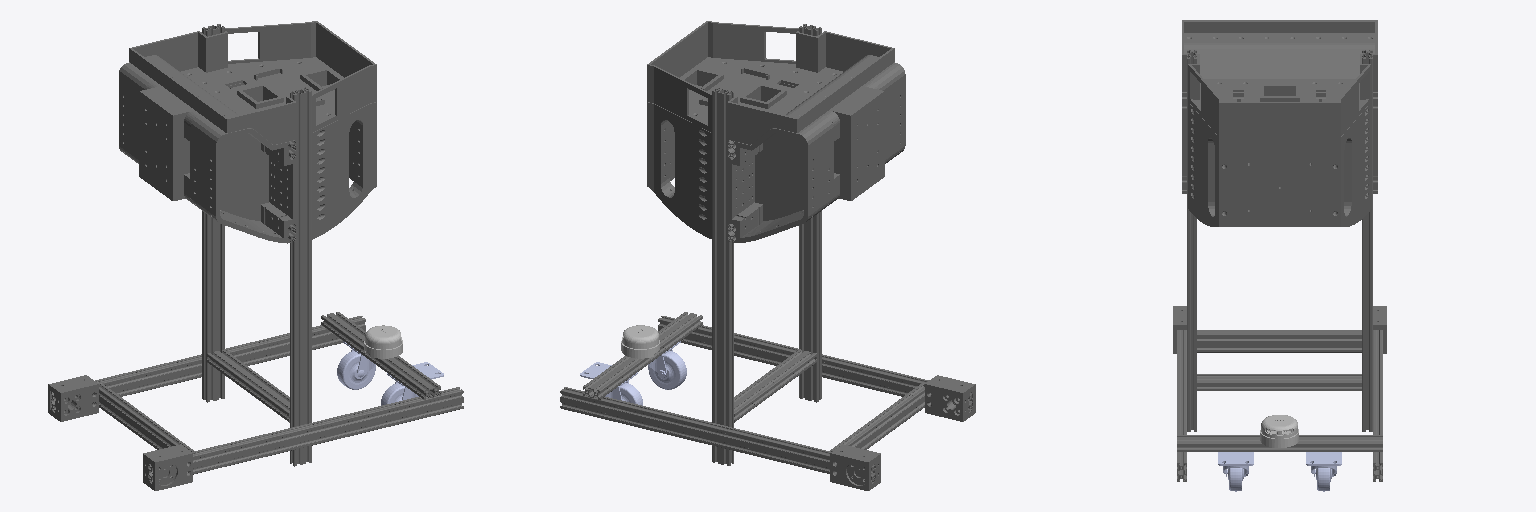
URDF robot description (view_robot_pkg):
<?xml version="1.0"?>
<robot name="view_robot_pkg">

  <link name="base_footprint"/>

  <joint name="base_footprint_joint" type="fixed">
    <origin xyz="0 0 0.56206" rpy="0 0 0"/>
    <parent link="base_footprint"/>
    <child link="base_link"/>
  </joint>

  <link name="base_link">
    <inertial>
      <origin xyz="-0.0246664991701579 5.70622526084585E-06 -0.065175547408044" rpy="0 0 0"/>
      <mass value="11.8117325473893"/>
      <inertia
        ixx="0.130576626113656"
        ixy="1.47971062390579E-07"
        ixz="0.00285071032522239"
        iyy="0.168919301848653"
        iyz="1.07757011014447E-08"
        izz="0.0962622389900477"/>
    </inertial>
    <visual>
      <origin xyz="0 0 0" rpy="0 0 0"/>
      <geometry>
        <mesh filename="package://view_robot_pkg/meshes/base_link.STL"/>
      </geometry>
      <material name="">
        <color rgba="0.498039215686275 0.498039215686275 0.498039215686275 1"/>
      </material>
    </visual>
    <collision>
      <origin xyz="0 0 0" rpy="0 0 0"/>
      <geometry>
        <mesh filename="package://view_robot_pkg/meshes/base_link.STL"/>
      </geometry>
    </collision>
  </link>

  <link name="wheel_right_link">
    <inertial>
      <origin xyz="-2.43019668694222E-06 1.85668461649691E-06 -0.0204728433099643" rpy="0 0 0"/>
      <mass value="0.516905713246417"/>
      <inertia
        ixx="0.00125613924285597"
        ixy="2.11747326433519E-09"
        ixz="2.64299917067243E-08"
        iyy="0.00125611448213454"
        iyz="-1.32101831494911E-08"
        izz="0.00238429646215864"/>
    </inertial>
    <visual>
      <origin xyz="0 0 0" rpy="0 0 0"/>
      <geometry>
        <mesh filename="package://view_robot_pkg/meshes/wheel_right_link.STL"/>
      </geometry>
      <material name="">
        <color rgba="0.792156862745098 0.819607843137255 0.933333333333333 1"/>
      </material>
    </visual>
    <collision>
      <origin xyz="0 0 0" rpy="0 0 0"/>
      <geometry>
        <mesh filename="package://view_robot_pkg/meshes/wheel_right_link.STL"/>
      </geometry>
    </collision>
  </link>

  <joint name="wheel_right_joint" type="continuous">
    <origin xyz="-0.33125 -0.25295 -0.49815" rpy="-1.5708 0 3.1416"/>
    <parent link="base_link"/>
    <child link="wheel_right_link"/>
    <axis xyz="0 0 -1"/>
    <dynamics damping="0.1" friction="0.1"/>
  </joint>

  <link name="wheel_left_link">
    <inertial>
      <origin xyz="3.05776156006576E-06 -3.77816526953012E-08 -0.0204728432555836" rpy="0 0 0"/>
      <mass value="0.516905716540766"/>
      <inertia
        ixx="0.00125612706197731"
        ixy="1.24388995856856E-08"
        ixz="-2.91071422970173E-08"
        iyy="0.00125612402313693"
        iyz="-5.16913670862521E-09"
        izz="0.00238429647597481"/>
    </inertial>
    <visual>
      <origin xyz="0 0 0" rpy="0 0 0"/>
      <geometry>
        <mesh filename="package://view_robot_pkg/meshes/wheel_left_link.STL"/>
      </geometry>
      <material name="">
        <color rgba="0.792156862745098 0.819607843137255 0.933333333333333 1"/>
      </material>
    </visual>
    <collision>
      <origin xyz="0 0 0" rpy="0 0 0"/>
      <geometry>
        <mesh filename="package://view_robot_pkg/meshes/wheel_left_link.STL"/>
      </geometry>
    </collision>
  </link>

  <joint name="wheel_left_joint" type="continuous">
    <origin xyz="-0.33125 0.25345 -0.49815" rpy="1.5708 0 3.1416"/>
    <parent link="base_link"/>
    <child link="wheel_left_link"/>
    <axis xyz="0 0 -1"/>
    <dynamics damping="0.1" friction="0.1"/>
  </joint>

  <link name="caster_left_wheel_link">
    <inertial>
      <origin xyz="-0.00849270707917538 0.0122148476204665 9.91213475813879E-05" rpy="0 0 0"/>
      <mass value="0.16436862013948"/>
      <inertia
        ixx="0.000134032984026512"
        ixy="4.88470723909831E-05"
        ixz="-3.22329844113555E-08"
        iyy="0.000114249682482447"
        iyz="4.632156635282E-08"
        izz="0.000205220433201827"/>
    </inertial>
    <visual>
      <origin xyz="0 0 0" rpy="0 0 0"/>
      <geometry>
        <mesh filename="package://view_robot_pkg/meshes/caster_left_wheel_link.STL"/>
      </geometry>
      <material name="">
        <color rgba="0.792156862745098 0.819607843137255 0.933333333333333 1"/>
      </material>
    </visual>
    <collision>
      <origin xyz="0 0 0" rpy="0 0 0"/>
      <geometry>
        <mesh filename="package://view_robot_pkg/meshes/caster_left_wheel_link.STL"/>
      </geometry>
    </collision>
  </link>

  <joint name="caster_left_wheel_joint" type="fixed">
    <origin xyz="0.26586 0.085525 -0.53206" rpy="1.5708 0 3.1416"/>
    <parent link="base_link"/>
    <child link="caster_left_wheel_link"/>
    <axis xyz="0 0 0"/>
  </joint>

  <link name="caster_wheel_right_link">
    <inertial>
      <origin xyz="-0.00849270707917676 -0.0122148476204665 -9.91213475806524E-05" rpy="0 0 0"/>
      <mass value="0.16436862013948"/>
      <inertia
        ixx="0.000134032984026512"
        ixy="-4.88470723909831E-05"
        ixz="3.22329844113684E-08"
        iyy="0.000114249682482447"
        iyz="4.63215663527944E-08"
        izz="0.000205220433201827"/>
    </inertial>
    <visual>
      <origin xyz="0 0 0" rpy="0 0 0"/>
      <geometry>
        <mesh filename="package://view_robot_pkg/meshes/caster_wheel_right_link.STL"/>
      </geometry>
      <material name="">
        <color rgba="0.792156862745098 0.819607843137255 0.933333333333333 1"/>
      </material>
    </visual>
    <collision>
      <origin xyz="0 0 0" rpy="0 0 0"/>
      <geometry>
        <mesh filename="package://view_robot_pkg/meshes/caster_wheel_right_link.STL"/>
      </geometry>
    </collision>
  </link>

  <joint name="caster_wheel_right_joint" type="fixed">
    <origin xyz="0.26586 -0.085525 -0.53206" rpy="-1.5708 0 3.1416"/>
    <parent link="base_link"/>
    <child link="caster_wheel_right_link"/>
    <axis xyz="0 0 0"/>
  </joint>

  <link name="lidar_link">
    <inertial>
      <origin xyz="-0.000565454433324009 -1.49381448554266E-05 -0.021701451940591" rpy="0 0 0"/>
      <mass value="0.165382751635991"/>
      <inertia
        ixx="7.88651836105335E-05"
        ixy="4.84717640920677E-08"
        ixz="2.18479443959808E-06"
        iyy="7.51902914938722E-05"
        iyz="2.88601572509174E-08"
        izz="0.000109946753058707"/>
    </inertial>
    <visual>
      <origin xyz="0 0 0" rpy="0 0 0"/>
      <geometry>
        <mesh filename="package://view_robot_pkg/meshes/lidar_link.STL"/>
      </geometry>
      <material name="">
        <color rgba="0.752941176470588 0.752941176470588 0.752941176470588 0.4"/>
      </material>
    </visual>
    <collision>
      <origin xyz="0 0 0" rpy="0 0 0"/>
      <geometry>
        <mesh filename="package://view_robot_pkg/meshes/lidar_link.STL"/>
      </geometry>
    </collision>
  </link>

  <joint name="lidar_joint" type="fixed">
    <origin xyz="0.2775 -0.00045 -0.4169" rpy="0 0 0"/>
    <parent link="base_link"/>
    <child link="lidar_link"/>
    <axis xyz="0 0 0"/>
  </joint>

</robot>

--- Render facts (derived) ---
Views: 3 orthographic renders of the robot side by side, from view 1: azimuth 30°, elevation 25°; view 2: azimuth 150°, elevation 25°; view 3: azimuth 270°, elevation 25°.
Model view_robot_pkg with 7 links and 6 joints (2 continuous, 4 fixed), rooted at base_footprint, posed all joints at 0.
Visible links, largest first — view 1: base_link, caster_left_wheel_link, lidar_link, caster_wheel_right_link; view 2: base_link, caster_wheel_right_link, lidar_link, caster_left_wheel_link; view 3: base_link, lidar_link, caster_left_wheel_link, caster_wheel_right_link.
Link boxes in pixels (x1,y1,x2,y2): base_link: (48,21,463,490); caster_left_wheel_link: (337,341,375,389); lidar_link: (364,325,402,358); caster_wheel_right_link: (381,362,443,405); base_link: (560,21,975,490); caster_wheel_right_link: (648,341,686,389); lidar_link: (621,325,659,358); caster_left_wheel_link: (580,362,642,405); base_link: (1173,20,1386,481); lidar_link: (1260,415,1298,447); caster_left_wheel_link: (1306,452,1341,491); caster_wheel_right_link: (1218,452,1253,491).
Bounding box of the posed robot: 0.7053 × 0.4174 × 0.806 m (x, y, z).
4 mesh visuals loaded from 6 distinct referenced files (4 binary STL); not drawn: 2 (reference not matched to a file when rendering).